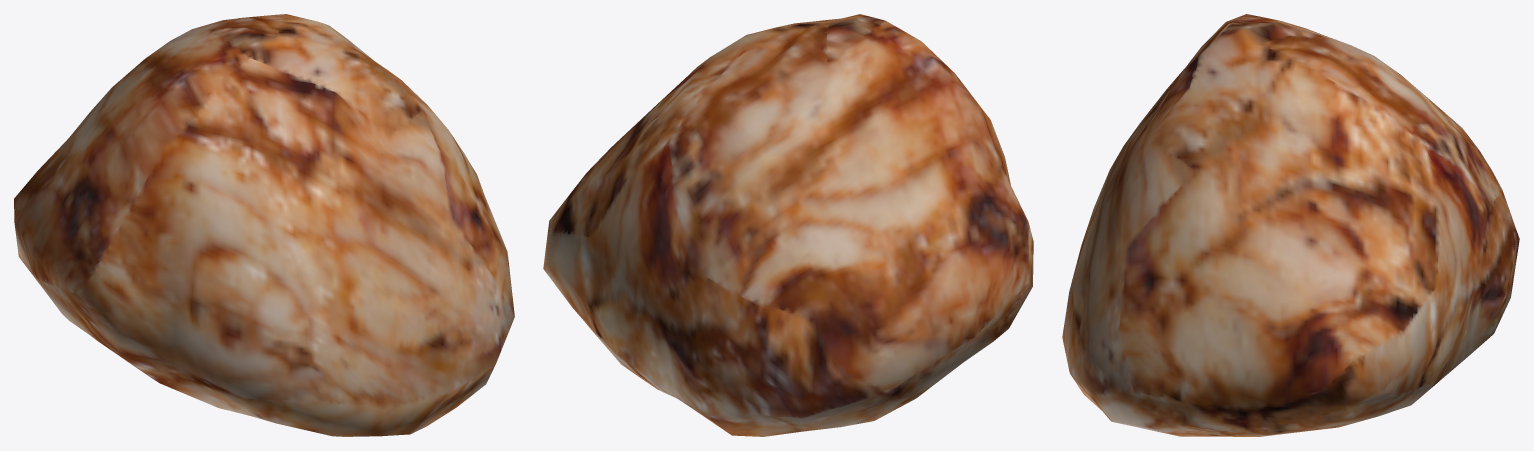
The model's file is TavukDonerKesme.fbx.
3 views of the same model, side by side, from view 1: azimuth 30°, elevation 25°; view 2: azimuth 150°, elevation 25°; view 3: azimuth 270°, elevation 25° (orthographic). The views are drawn at different scales.
Visible parts, largest first — view 1: Icosphere.001; view 2: Icosphere.001; view 3: Icosphere.001.
Boxes of the visible parts, x1=… form: Icosphere.001: x1=14, y1=14, x2=514, y2=436; Icosphere.001: x1=543, y1=14, x2=1033, y2=436; Icosphere.001: x1=1062, y1=14, x2=1519, y2=436.
Size of the model in its own units: 430 by 347 by 410.
Materials: 1 (1 with a texture image).
